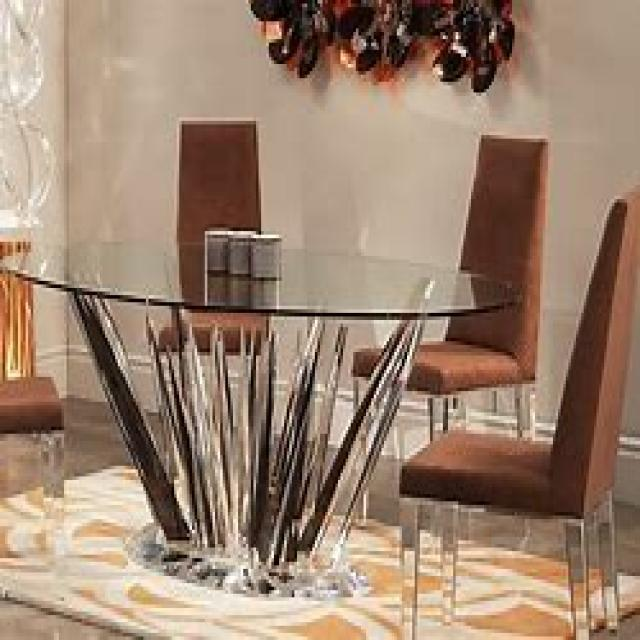chair: (397, 182, 637, 636), (348, 132, 548, 551)
